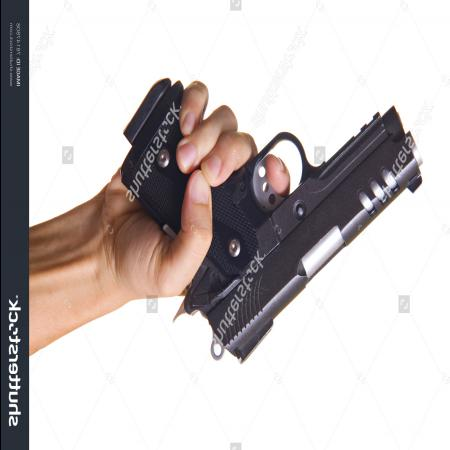Pistol: (124, 78, 422, 362)
